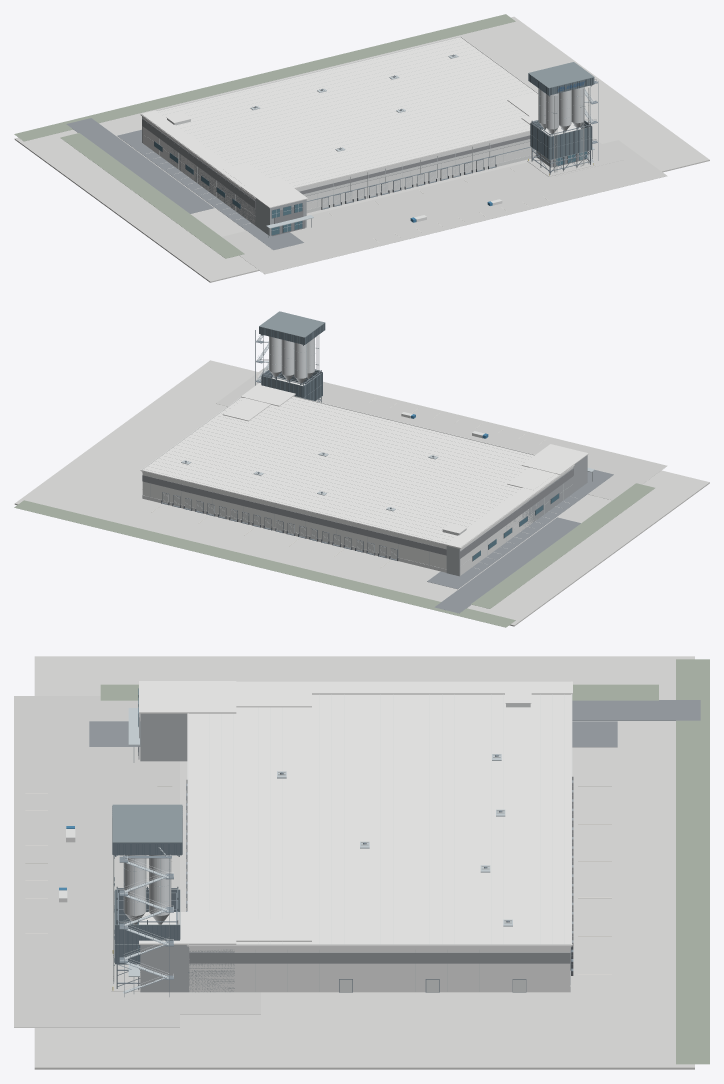
Rendered from mapei-drymix.glb.
The picture shows the model from 3 angles, top to bottom: view 1: azimuth 30°, elevation 25°; view 2: azimuth 150°, elevation 25°; view 3: azimuth 270°, elevation 25°; orthographic projection. The views are drawn at different scales.
Visible parts, largest first — view 1: roof, ground, concrete, green, walls, asphalt, office_dark, roof_seam, wall_shade, tower_cladding, metal_light, office_medium (+8 smaller); view 2: roof, ground, green, concrete, walls, asphalt, office_dark, roof_seam, wall_shade, metal_light, office_medium, tower_cladding (+4 smaller); view 3: roof, ground, concrete, green, walls, office_medium, asphalt, office_dark, roof_seam, tower_trim, metal_light, tower_cladding (+4 smaller).
Boxes of the visible parts, x1,y1,x2,y2 form: roof: (141,37,580,208); ground: (14,16,709,282); concrete: (222,137,667,274); green: (14,14,515,258); walls: (140,36,538,224); asphalt: (66,118,303,250); office_dark: (142,118,586,236); roof_seam: (158,38,537,185); wall_shade: (167,118,536,213); tower_cladding: (528,73,593,159); metal_light: (538,79,597,172); office_medium: (142,116,587,236); roof: (141,376,588,548); ground: (14,360,709,626); green: (14,483,654,627); concrete: (216,367,667,500); walls: (140,396,574,575); asphalt: (427,470,613,613); office_dark: (142,468,573,558); roof_seam: (148,398,531,542); wall_shade: (142,492,466,572); metal_light: (256,334,314,383); office_medium: (294,395,587,576); tower_cladding: (259,323,325,400); roof: (139,681,572,946); ground: (34,656,694,1069); concrete: (14,696,260,1027); green: (100,659,709,1064); walls: (59,681,572,992); office_medium: (140,713,234,992); asphalt: (89,700,700,747); office_dark: (138,713,570,989); roof_seam: (209,694,564,943); tower_trim: (112,804,182,965); metal_light: (113,855,173,989); tower_cladding: (112,843,182,963).
Size of the model in its own units: 258 by 44.22 by 184.
